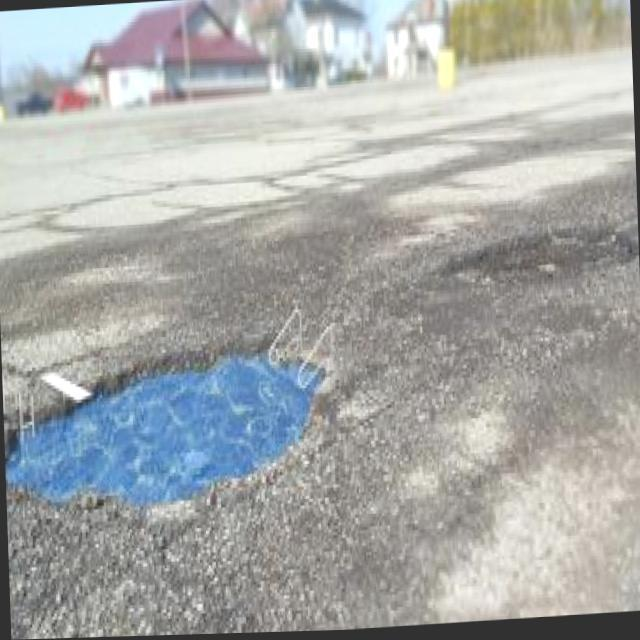Pothole: (4, 334, 314, 517)
